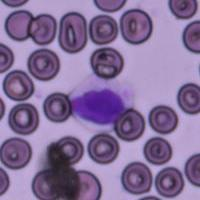M: (68, 74, 136, 132)
